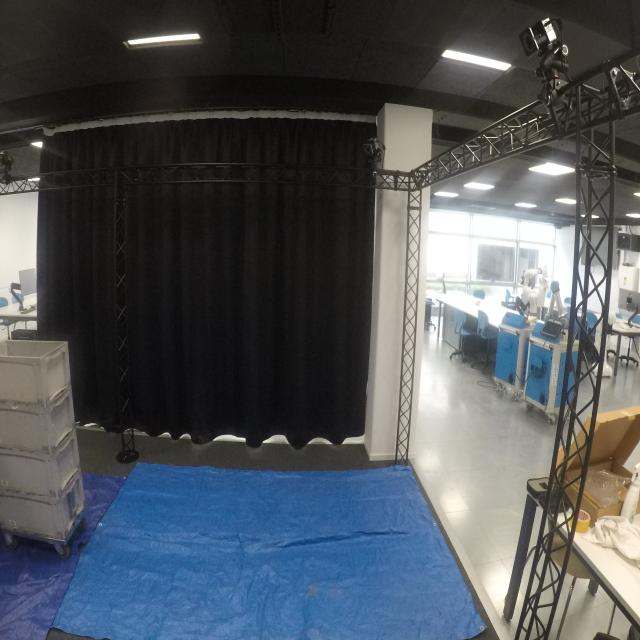Box4G: (0, 468, 92, 542), (0, 431, 85, 502), (0, 334, 77, 412), (0, 386, 79, 456)
